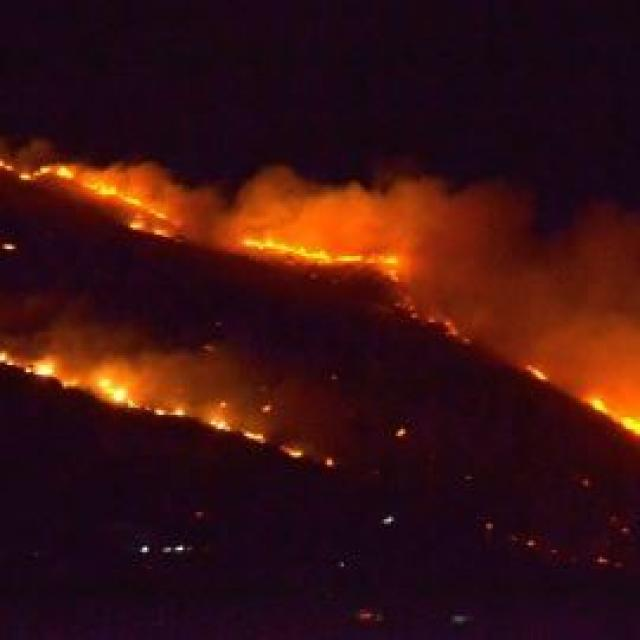Fire: (245, 224, 417, 281), (8, 349, 156, 414), (82, 174, 192, 242), (583, 390, 640, 445), (0, 153, 83, 185), (206, 408, 237, 441), (236, 422, 269, 449), (277, 442, 310, 468), (522, 352, 548, 382), (152, 400, 186, 420)
Smoke: (455, 225, 640, 377), (241, 182, 535, 273), (109, 160, 232, 248)
